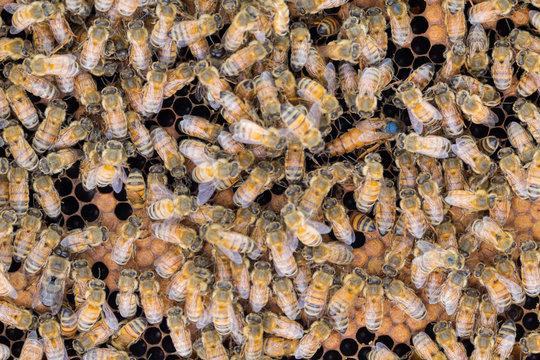Queen-Bee: (325, 118, 403, 156)
worker-bee: (411, 240, 463, 287), (394, 82, 441, 133), (36, 247, 70, 314), (342, 12, 385, 63), (192, 157, 238, 204), (201, 223, 254, 263), (233, 162, 280, 207), (281, 202, 329, 246), (280, 103, 323, 152), (87, 140, 126, 191), (3, 63, 57, 99), (23, 224, 61, 274), (328, 267, 366, 317), (297, 77, 342, 119), (32, 99, 67, 153), (78, 278, 113, 331), (220, 40, 271, 76), (146, 183, 197, 219), (383, 278, 426, 320), (298, 167, 334, 217), (168, 14, 222, 47), (475, 263, 511, 312), (150, 127, 185, 177), (222, 5, 259, 51), (355, 67, 389, 117), (3, 122, 38, 170), (265, 222, 296, 276), (355, 153, 383, 212), (303, 264, 334, 317), (432, 83, 463, 136), (166, 260, 206, 301), (4, 1, 55, 33), (449, 74, 500, 106), (230, 119, 284, 149), (470, 216, 515, 252), (498, 147, 529, 199), (451, 135, 492, 174), (79, 17, 109, 69), (111, 215, 142, 265), (294, 319, 332, 359), (151, 220, 201, 250), (210, 280, 237, 335), (456, 90, 497, 126), (6, 84, 38, 129), (416, 172, 443, 225), (197, 62, 231, 104), (382, 230, 413, 276), (323, 198, 354, 244), (14, 208, 40, 261), (253, 71, 280, 122), (185, 268, 210, 322), (38, 313, 67, 359), (101, 86, 127, 137), (126, 19, 151, 72), (120, 67, 147, 116), (51, 117, 92, 149), (400, 188, 426, 238), (167, 306, 192, 357), (433, 321, 466, 359), (398, 133, 450, 157), (60, 226, 107, 252), (25, 54, 78, 77), (272, 277, 300, 320), (374, 178, 395, 235), (139, 271, 162, 323), (39, 148, 83, 175), (302, 241, 353, 264), (143, 62, 166, 113), (385, 0, 411, 45), (455, 288, 479, 336), (111, 317, 147, 349), (178, 115, 222, 141), (33, 175, 60, 217), (469, 0, 516, 24), (466, 24, 488, 75), (513, 98, 539, 141), (164, 61, 195, 97), (444, 190, 497, 211), (492, 37, 513, 90), (363, 276, 383, 331), (249, 261, 271, 311), (262, 312, 303, 338), (75, 72, 101, 113), (520, 240, 539, 296), (0, 301, 36, 330), (116, 268, 137, 317), (290, 22, 310, 71), (8, 167, 28, 215), (243, 313, 262, 359), (125, 169, 145, 208), (527, 149, 539, 201), (516, 50, 539, 74)
